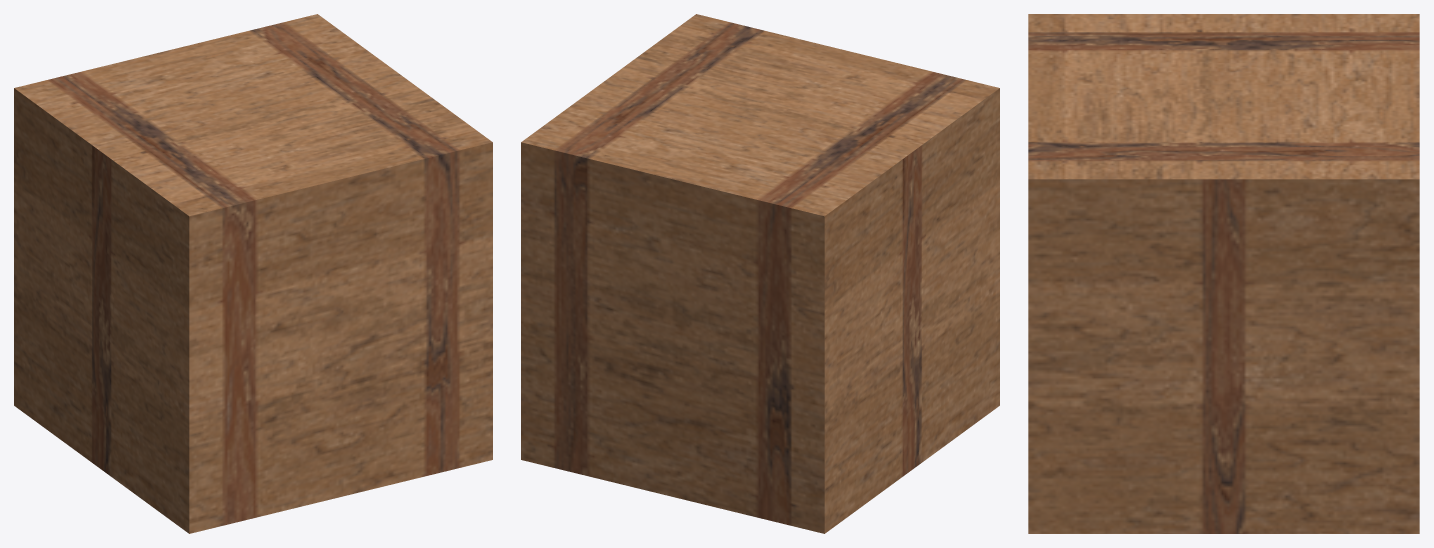
File: Wood.fbx
The picture shows the model from 3 angles, left to right: view 1: azimuth 30°, elevation 25°; view 2: azimuth 150°, elevation 25°; view 3: azimuth 270°, elevation 25°; orthographic projection. The views are drawn at different scales.
Visible parts, largest first — view 1: shard1, shard4, shard3, shard2; view 2: shard3, shard2, shard1, shard4; view 3: shard2, shard1, shard4, shard3.
Part boxes in pixels (left/top/right/bottom): shard1: left=14, top=120, right=492, bottom=448; shard4: left=72, top=324, right=492, bottom=533; shard3: left=14, top=14, right=360, bottom=510; shard2: left=43, top=46, right=492, bottom=201; shard3: left=521, top=110, right=999, bottom=465; shard2: left=521, top=14, right=898, bottom=463; shard1: left=521, top=63, right=999, bottom=533; shard4: left=883, top=370, right=999, bottom=490; shard2: left=1028, top=14, right=1419, bottom=457; shard1: left=1028, top=14, right=1419, bottom=533; shard4: left=1028, top=382, right=1386, bottom=533; shard3: left=1322, top=14, right=1419, bottom=254.
Size of the model in its own units: 2 by 2 by 2.
